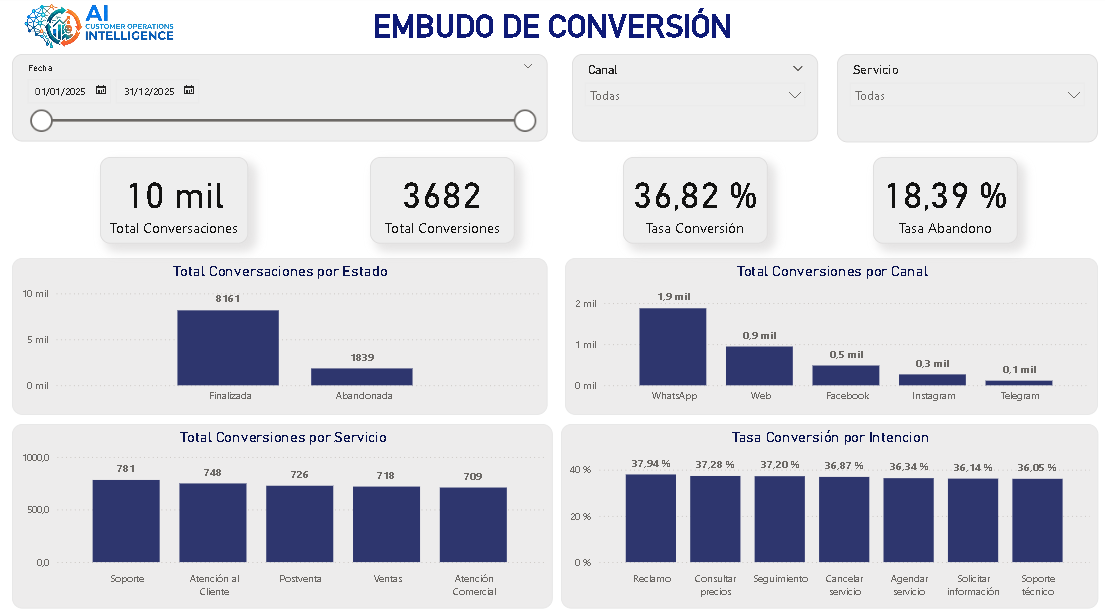

What the dashboard file says about the page in this screenshot:
{"tool":"powerbi","page":{"name":"ANALISIS CONVERSACIONES Y CONVERSIONES","canvas":[1280,720],"ordinal":1},"visuals":[{"type":"textbox","title":"      EMBUDO DE CONVERSIÓN","box":[343.4,13.5,591,72],"z":0},{"type":"columnChart","title":"Total Conversaciones por Estado","fields":{"Category":["FactConversaciones.EstadoConversacion"],"Y":["Medidas.Total Conversaciones"]},"box":[16.2,301.9,617.5,180.9],"z":1000},{"type":"columnChart","fields":{"Category":["DimCanal.Canal"],"Y":["Medidas.Total Conversiones"]},"box":[653.7,301.9,615,180.9],"z":2000},{"type":"slicer","fields":{"Values":["DimFecha.Fecha"]},"box":[16.2,67.4,617.5,101.1],"z":3000},{"type":"slicer","fields":{"Values":["DimCanal.Canal"]},"box":[662.5,67.4,284.4,101.1],"z":4000},{"type":"slicer","fields":{"Values":["DimServicio.Servicio"]},"box":[968.4,67.1,300.8,101.9],"z":5000},{"type":"columnChart","fields":{"Category":["DimServicio.Servicio"],"Y":["Medidas.Total Conversiones"]},"box":[16.2,494,623.8,213.3],"z":6000},{"type":"columnChart","fields":{"Category":["DimIntencion.Intencion"],"Y":["Medidas.Tasa Conversión"]},"box":[650,494,620,213.3],"z":7000},{"type":"card","fields":{"Values":["Medidas.Tasa Conversión"]},"box":[721.1,185.9,167.2,99.8],"z":8000},{"type":"card","fields":{"Values":["Medidas.Total Conversiones"]},"box":[429.2,185.9,167.2,99.8],"z":9000},{"type":"card","fields":{"Values":["Medidas.Total Conversaciones"]},"box":[117.3,185.9,170.9,99.8],"z":10000},{"type":"card","fields":{"Values":["Medidas.Tasa Abandono"]},"box":[1009.3,185.9,167.2,99.8],"z":11000},{"type":"image","box":[0,0,232.5,67.5],"z":12000}]}

Visuals, with their boxes in screenshot pixels (x1, y1, x2, y2), scaled from the page's 1280x720 canvas onto the 1105x616 screenshot:
"      EMBUDO DE CONVERSIÓN" textbox: rect(296, 12, 807, 73)
"Total Conversaciones por Estado" columnChart: rect(14, 258, 547, 413)
columnChart - DimCanal.Canal x Medidas.Total Conversiones: rect(564, 258, 1095, 413)
slicer - DimFecha.Fecha: rect(14, 58, 547, 144)
slicer - DimCanal.Canal: rect(572, 58, 817, 144)
slicer - DimServicio.Servicio: rect(836, 57, 1096, 145)
columnChart - DimServicio.Servicio x Medidas.Total Conversiones: rect(14, 423, 552, 605)
columnChart - DimIntencion.Intencion x Medidas.Tasa Conversión: rect(561, 423, 1096, 605)
card - Medidas.Tasa Conversión: rect(623, 159, 767, 244)
card - Medidas.Total Conversiones: rect(371, 159, 515, 244)
card - Medidas.Total Conversaciones: rect(101, 159, 249, 244)
card - Medidas.Tasa Abandono: rect(871, 159, 1016, 244)
image: rect(0, 0, 201, 58)
